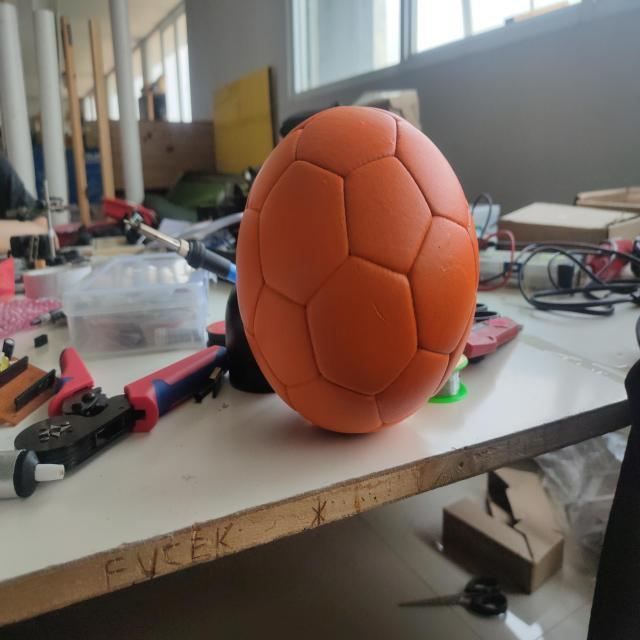bola: (228, 90, 486, 450)
